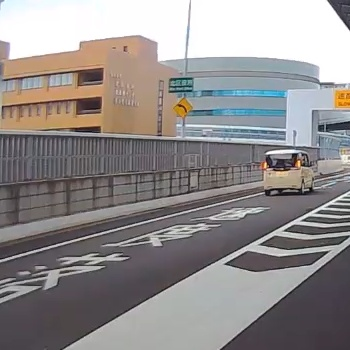car: (263, 150, 305, 193)
